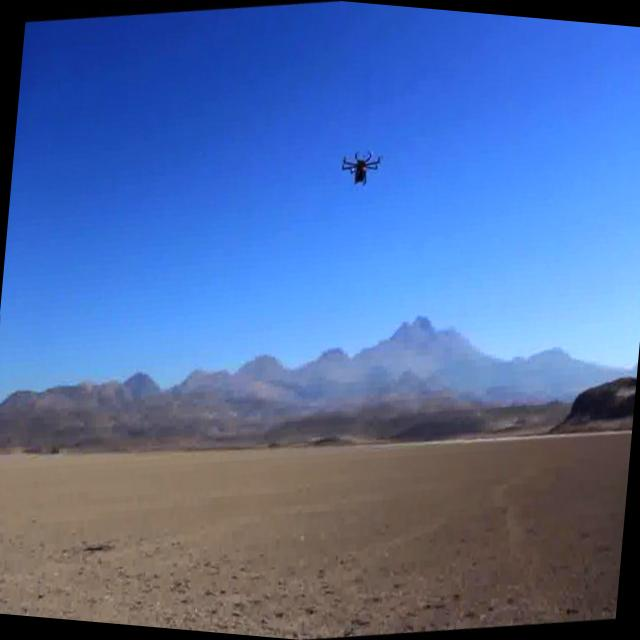drone: (333, 132, 386, 199)
